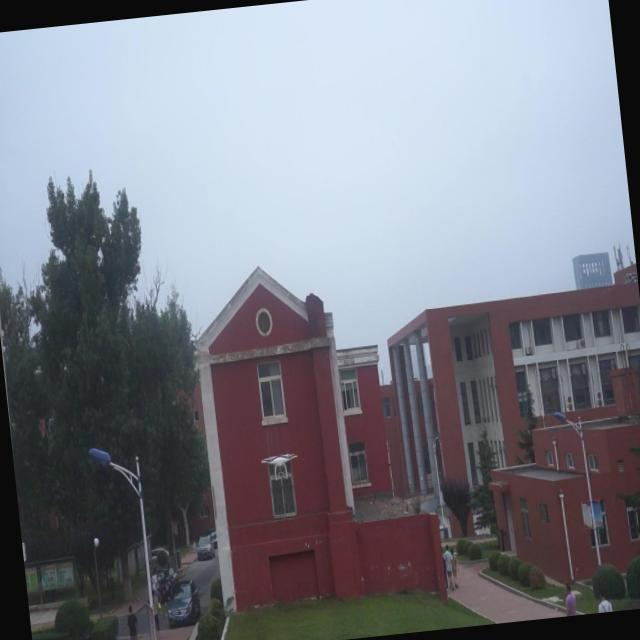drone: (256, 446, 303, 485)
